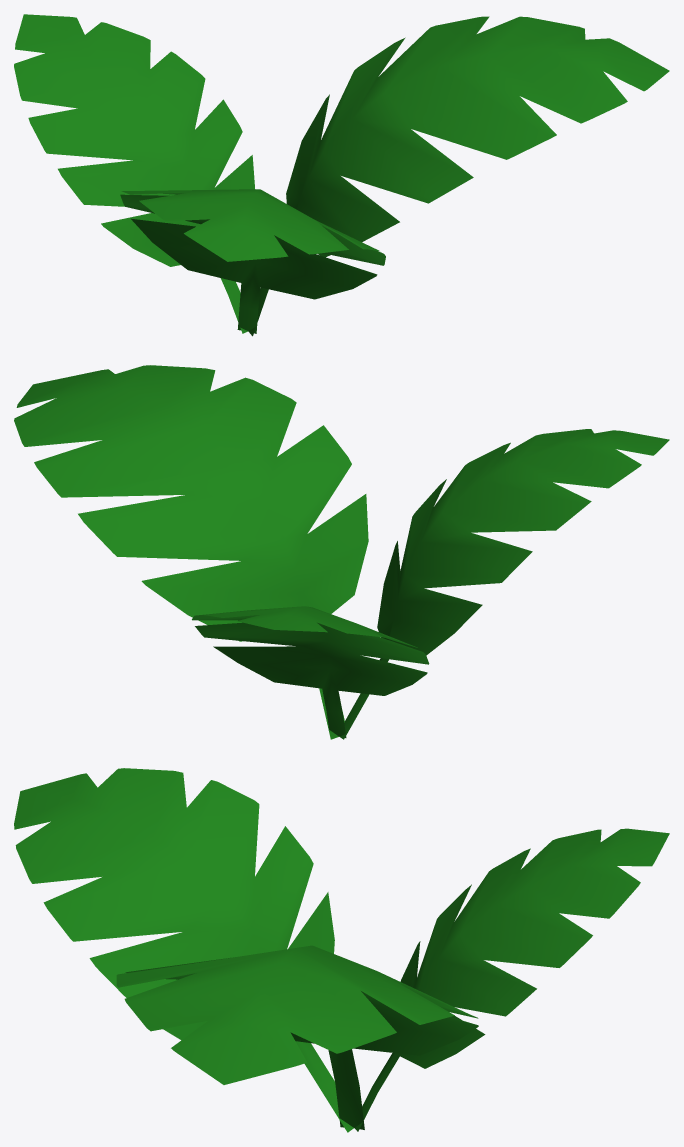
The model's file is Plant_004.FBX.
The picture shows the model from 3 angles, top to bottom: view 1: azimuth 30°, elevation 25°; view 2: azimuth 150°, elevation 25°; view 3: azimuth 270°, elevation 25°; orthographic projection. The views are drawn at different scales.
Visible parts, largest first — view 1: Plant_004; view 2: Plant_004; view 3: Plant_004.
Boxes of the visible parts, x1,y1,x2,y2 form: Plant_004: (14,14,669,336); Plant_004: (14,365,669,739); Plant_004: (14,768,669,1132).
Bounding box in the file's own units: 84.83 × 37.15 × 79.73.
